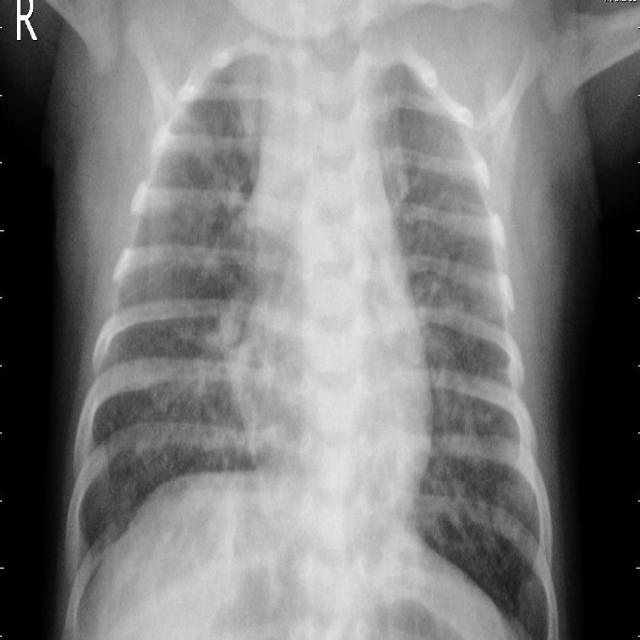low-pneumonia: (360, 30, 425, 217), (198, 297, 259, 465), (212, 39, 271, 157)
